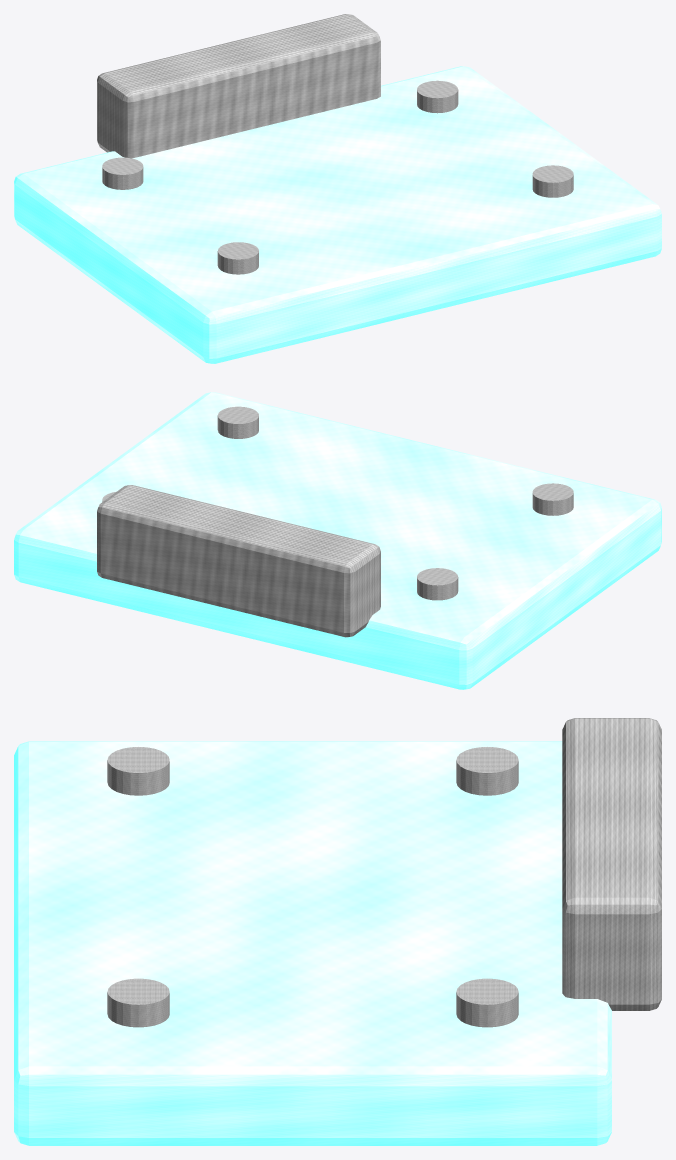
File: item-reinforced-iron-plate_variant_d.glb
The picture shows the model from 3 angles, top to bottom: view 1: azimuth 30°, elevation 25°; view 2: azimuth 150°, elevation 25°; view 3: azimuth 270°, elevation 25°; orthographic projection. The views are drawn at different scales.
Parts seen in each view (by area): view 1: Flat material sheet.003, Variant modular rail, Sheet fastener.012, Sheet fastener.014, Sheet fastener.013, Sheet fastener.015; view 2: Flat material sheet.003, Variant modular rail, Sheet fastener.012, Sheet fastener.013, Sheet fastener.014; view 3: Flat material sheet.003, Variant modular rail, Sheet fastener.012, Sheet fastener.013, Sheet fastener.015, Sheet fastener.014.
Part boxes in pixels (x1=…): Flat material sheet.003: x1=14, y1=66, x2=661, y2=363; Variant modular rail: x1=97, y1=14, x2=380, y2=158; Sheet fastener.012: x1=217, y1=242, x2=258, y2=274; Sheet fastener.014: x1=532, y1=165, x2=573, y2=197; Sheet fastener.013: x1=102, y1=157, x2=143, y2=189; Sheet fastener.015: x1=417, y1=80, x2=458, y2=113; Flat material sheet.003: x1=14, y1=392, x2=661, y2=689; Variant modular rail: x1=97, y1=485, x2=380, y2=637; Sheet fastener.012: x1=532, y1=483, x2=573, y2=515; Sheet fastener.013: x1=417, y1=568, x2=458, y2=600; Sheet fastener.014: x1=217, y1=406, x2=258, y2=438; Flat material sheet.003: x1=14, y1=741, x2=611, y2=1145; Variant modular rail: x1=562, y1=718, x2=661, y2=1010; Sheet fastener.012: x1=107, y1=747, x2=169, y2=795; Sheet fastener.013: x1=456, y1=747, x2=518, y2=795; Sheet fastener.015: x1=456, y1=978, x2=518, y2=1027; Sheet fastener.014: x1=107, y1=978, x2=169, y2=1027.
Size of what is drawn, in the model's own units: 0.64 by 0.155 by 0.52.
Materials: 3 (3 with a texture image).
